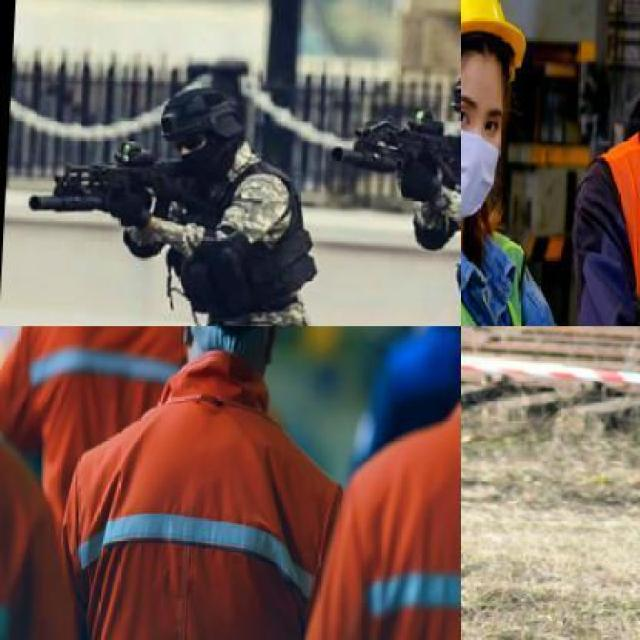Vest: (66, 340, 342, 638), (356, 340, 458, 638), (160, 166, 326, 325), (18, 326, 178, 474), (0, 420, 83, 638)
